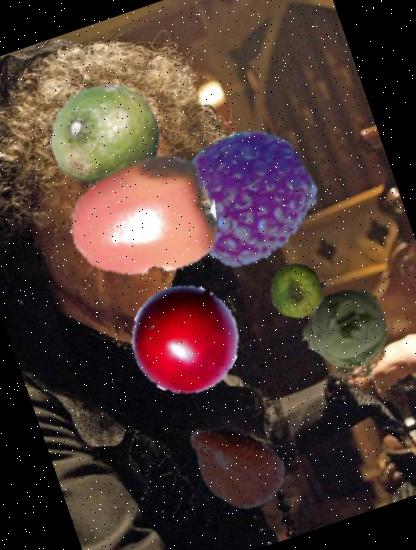Kaki: (48, 121, 237, 310)
Kohlrabi: (288, 274, 402, 388)
Limes: (35, 68, 177, 210), (262, 254, 333, 325)
Raspberry: (167, 112, 332, 278)
Salak: (164, 396, 304, 535)
Tamarillo: (115, 270, 254, 409)
